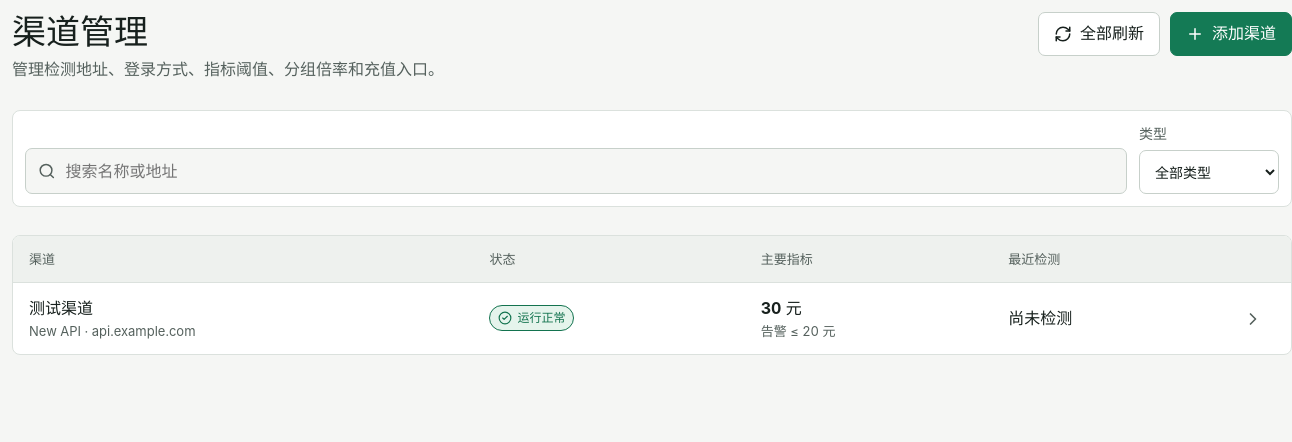
Test case: 渠道全部刷新 › 刷新失败后显示错误并允许再次操作
Click the button "全部刷新" at [1099, 34], box [1038, 12, 1160, 56]
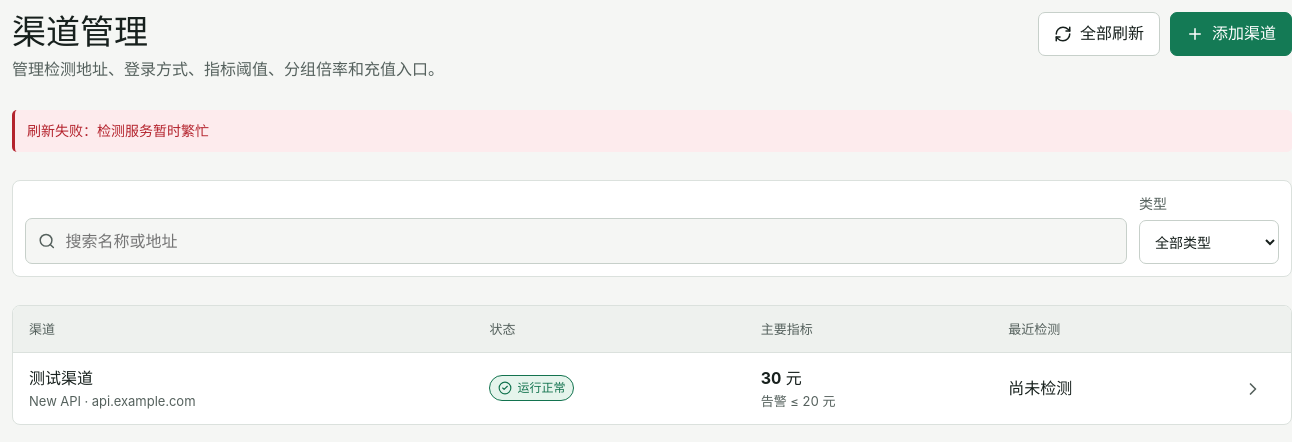
Expected: the message reads "刷新失败：检测服务暂时繁忙", [12, 110, 1291, 152]
